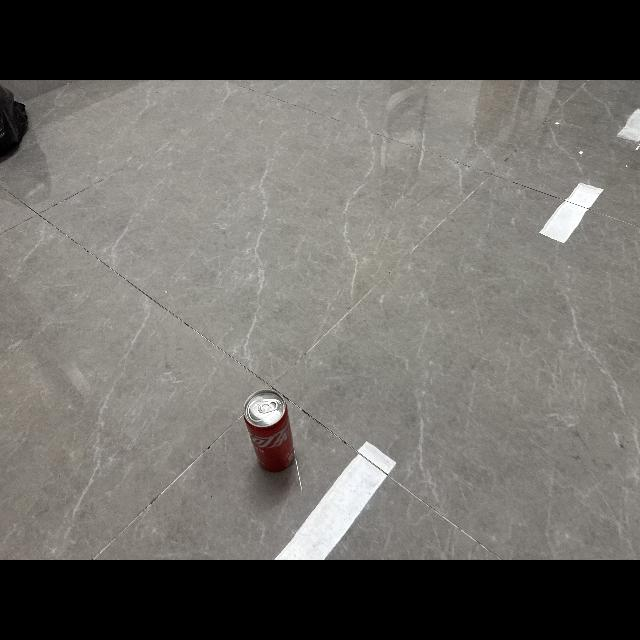Cola: (240, 388, 302, 474)
